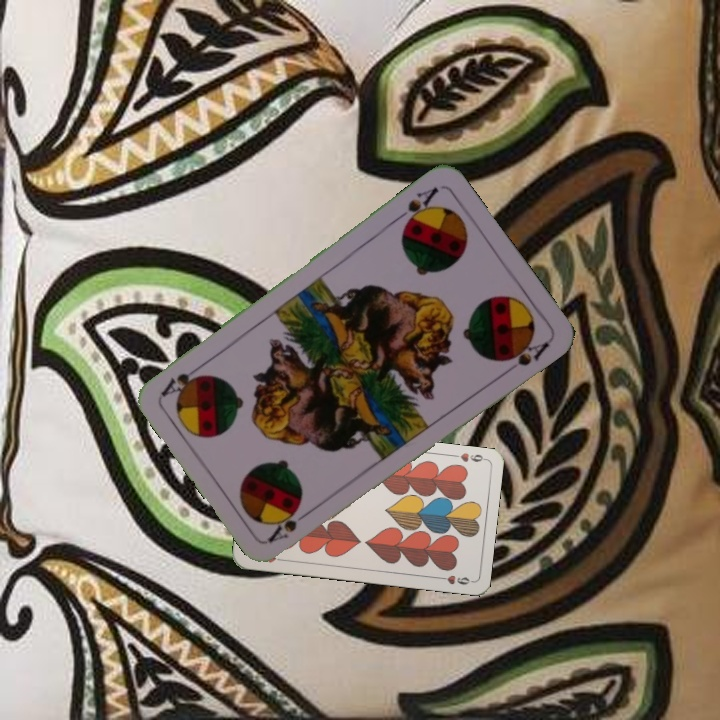H9: (447, 449, 488, 464)
SA: (390, 182, 442, 230), (264, 504, 316, 545)
